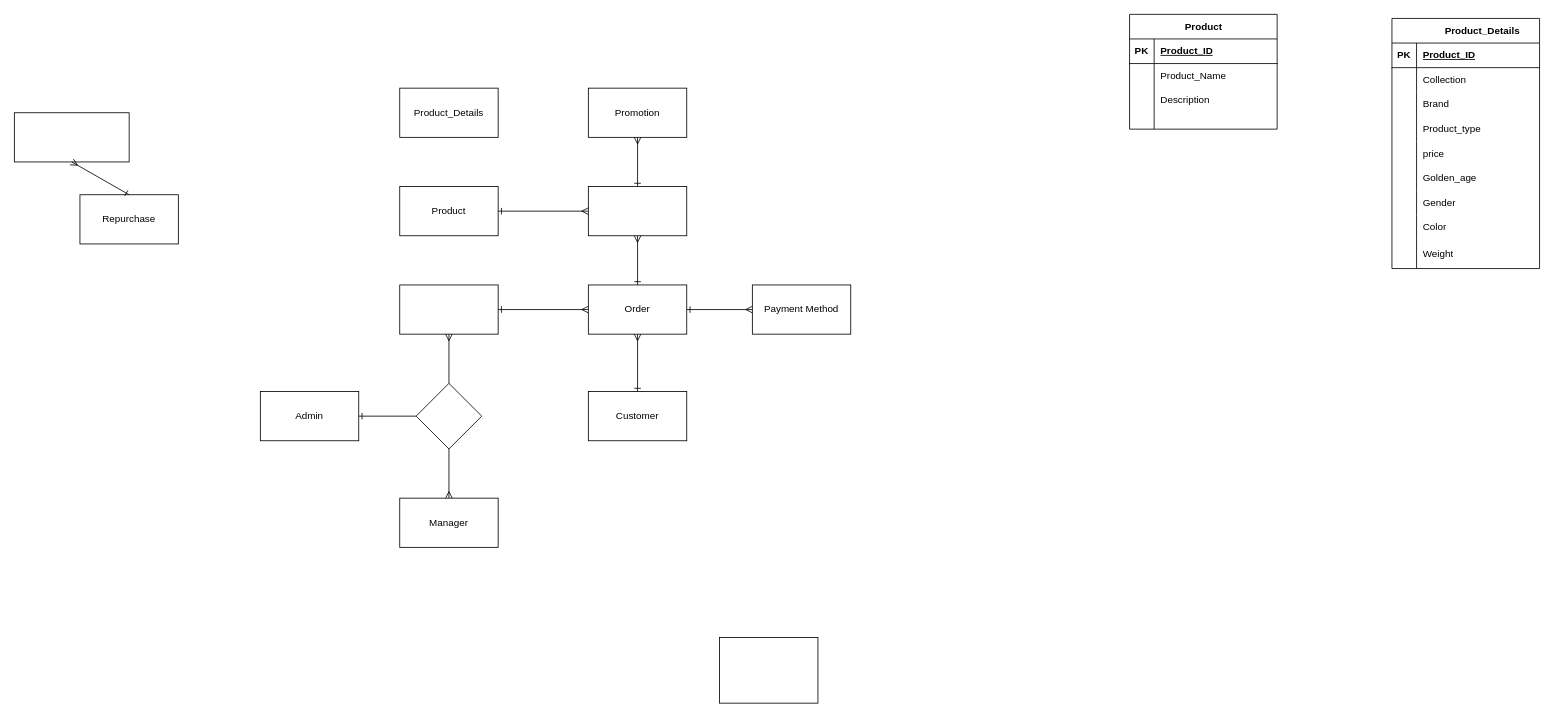
Some shapes in this 1554 by 718 pixel diagram are drawn without their labels. The box of each missing label's shape, as (x1, y1, x2, y2) in pixels:
Gold_price: (719, 637, 818, 703)
Manage: (415, 383, 482, 449)
OrderDetails: (588, 186, 687, 236)
Repurchase_details: (14, 112, 129, 162)
Staff: (399, 284, 498, 334)
